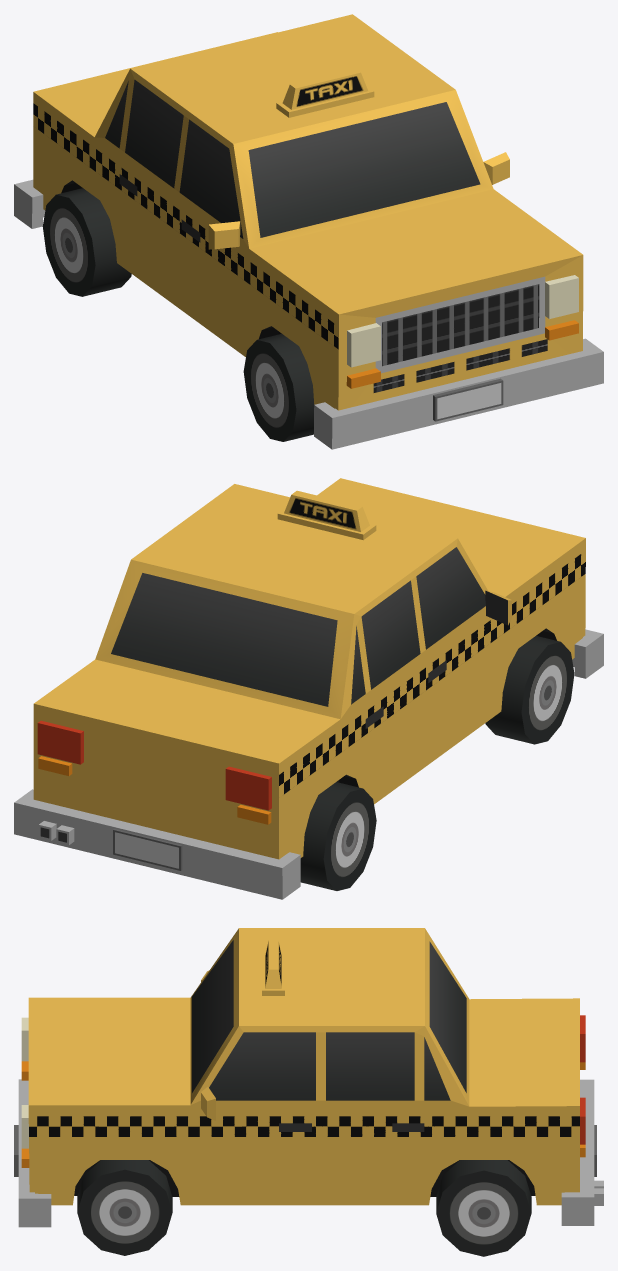
The model's file is Taxi.fbx.
3 renders of one model, top to bottom at view 1: azimuth 30°, elevation 25°; view 2: azimuth 150°, elevation 25°; view 3: azimuth 270°, elevation 25°, orthographic. The views are drawn at different scales.
Visible parts, largest first — view 1: Taxi, TireBR, TireFR; view 2: Taxi, TireFR, TireBR; view 3: Taxi, TireBL, TireFL.
Boxes of the visible parts, x1,y1,x2,y2 form: Taxi: [14, 14, 603, 449]; TireBR: [42, 188, 131, 296]; TireFR: [243, 333, 314, 441]; Taxi: [14, 478, 603, 899]; TireFR: [485, 636, 574, 744]; TireBR: [300, 782, 376, 890]; Taxi: [14, 928, 603, 1227]; TireBL: [436, 1160, 531, 1256]; TireFL: [77, 1160, 172, 1255].
Bounding box in the file's own units: 211 × 181 × 403.
